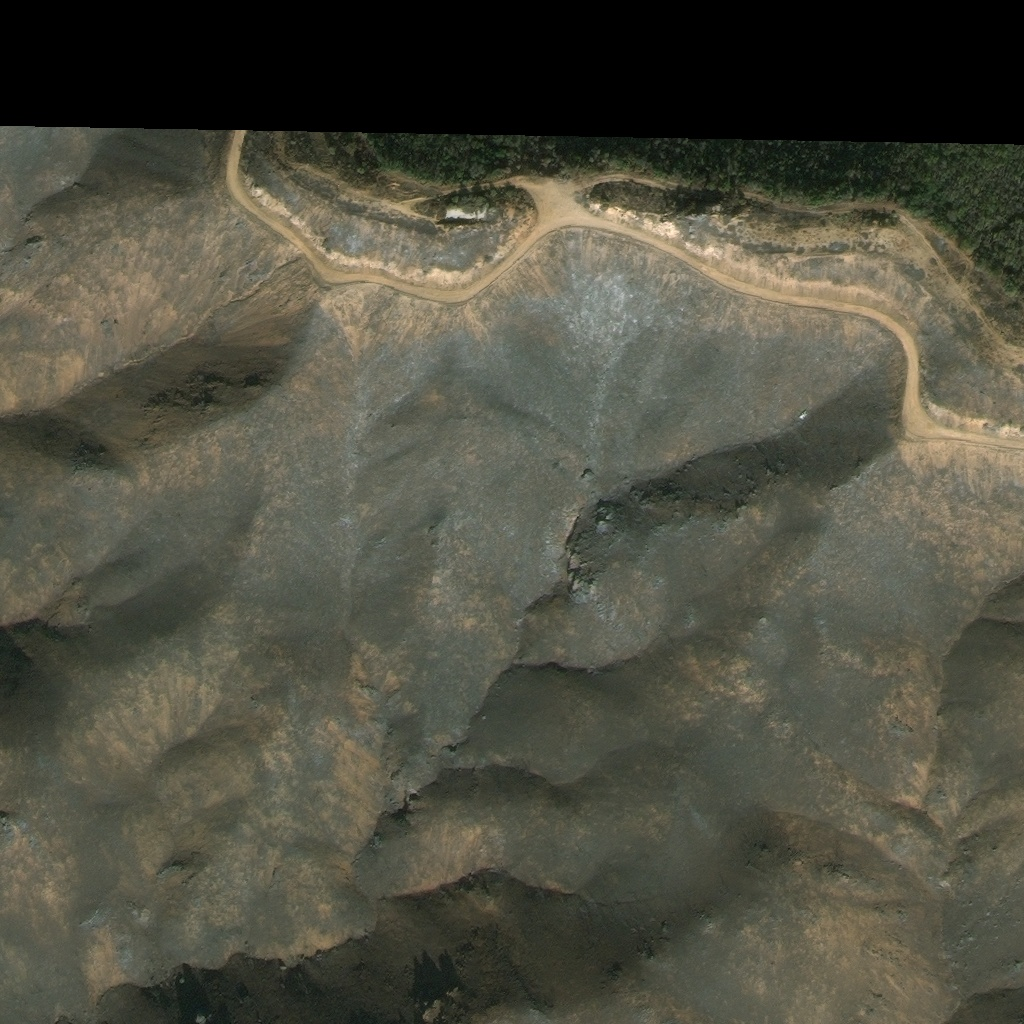1 minor-damage: (437, 206, 486, 222)
